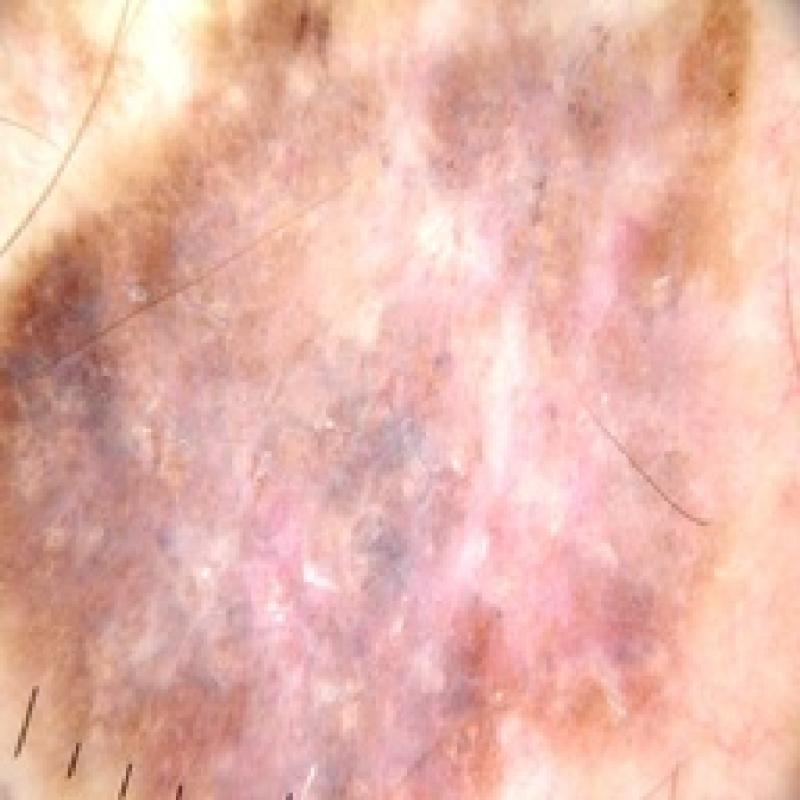malignant: (2, 1, 800, 800)
